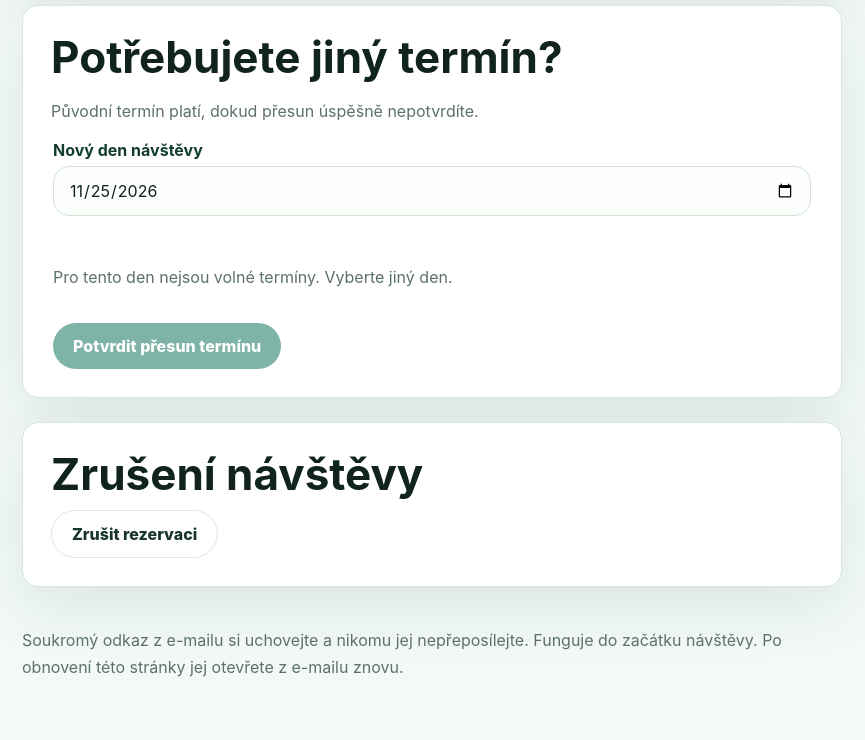
Test: removes the secret fragment and requires an explicit cancellation confirmation
Later steps or results of the test are not shown.
(page scrolled)
Click the button "Zrušit rezervaci": click(135, 534) [51,510,218,558]
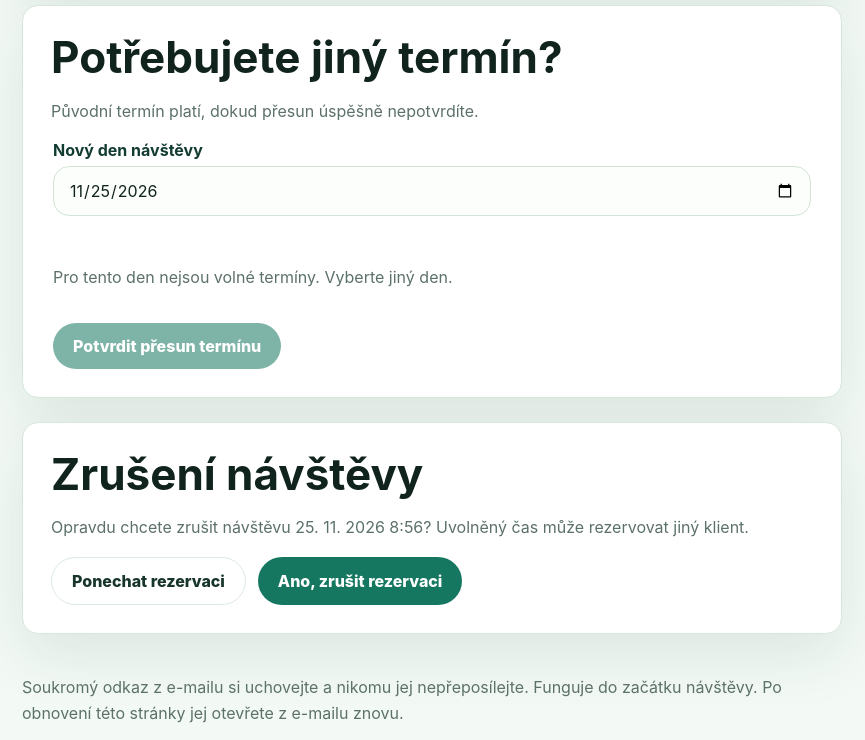
Click the button "Ponechat rezervaci": click(148, 581) [51,557,246,605]
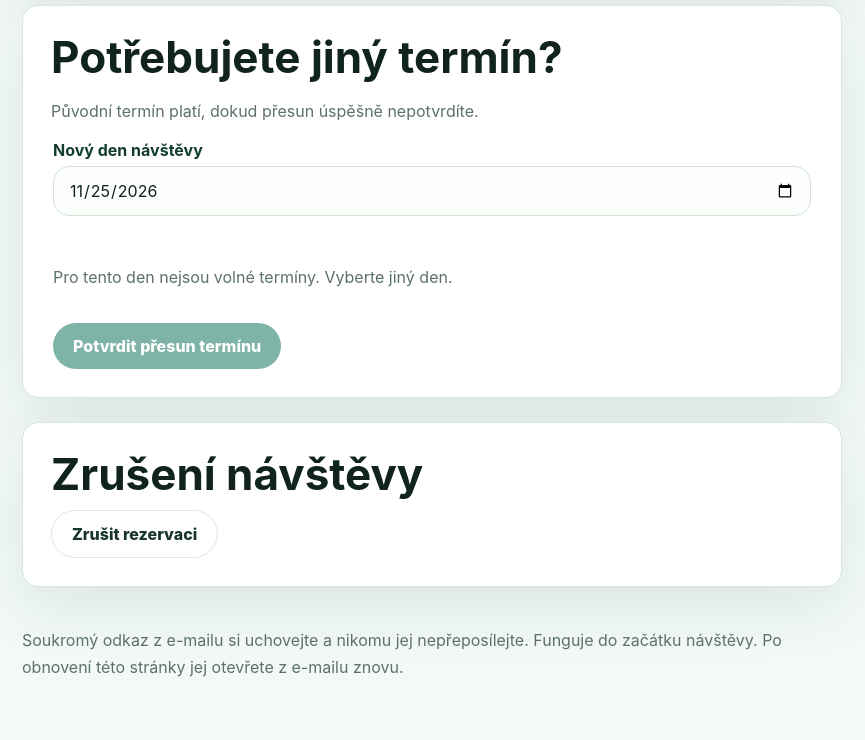
Click the button "Zrušit rezervaci": click(135, 534) [51,510,218,558]
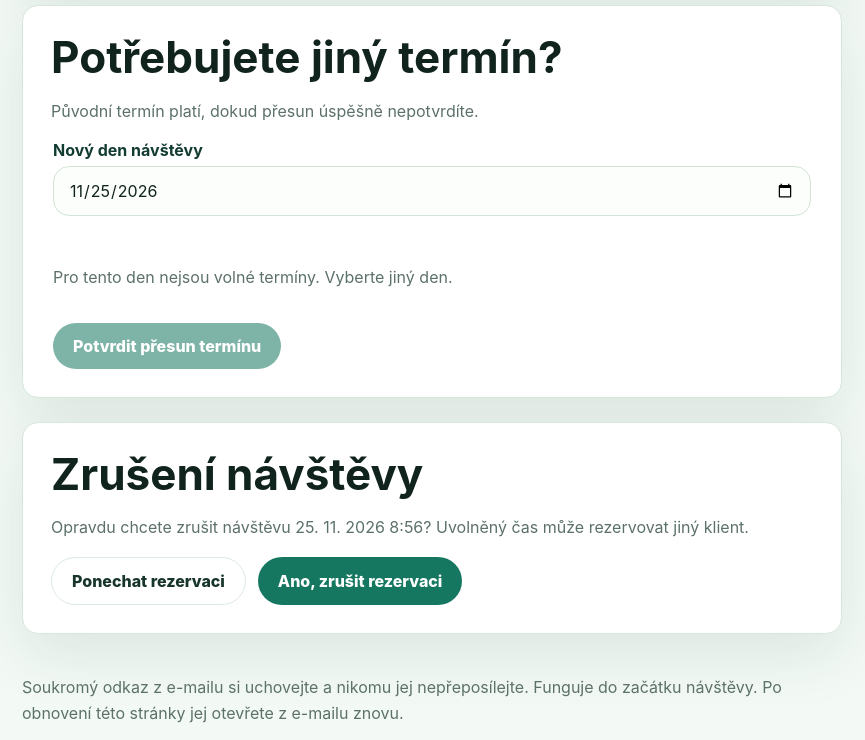
Click the button "Ano, zrušit rezervaci": click(360, 581) [258,557,462,605]
(page scrolled)
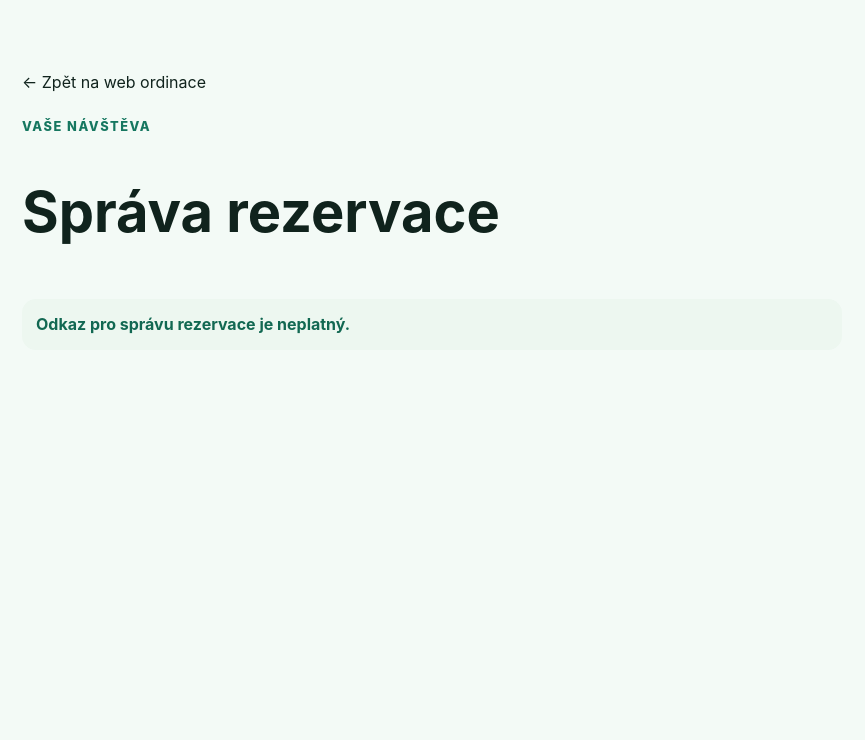
Expected: the text "Odkaz pro správu rezervace je neplatný." is shown, [22,299,842,350]
